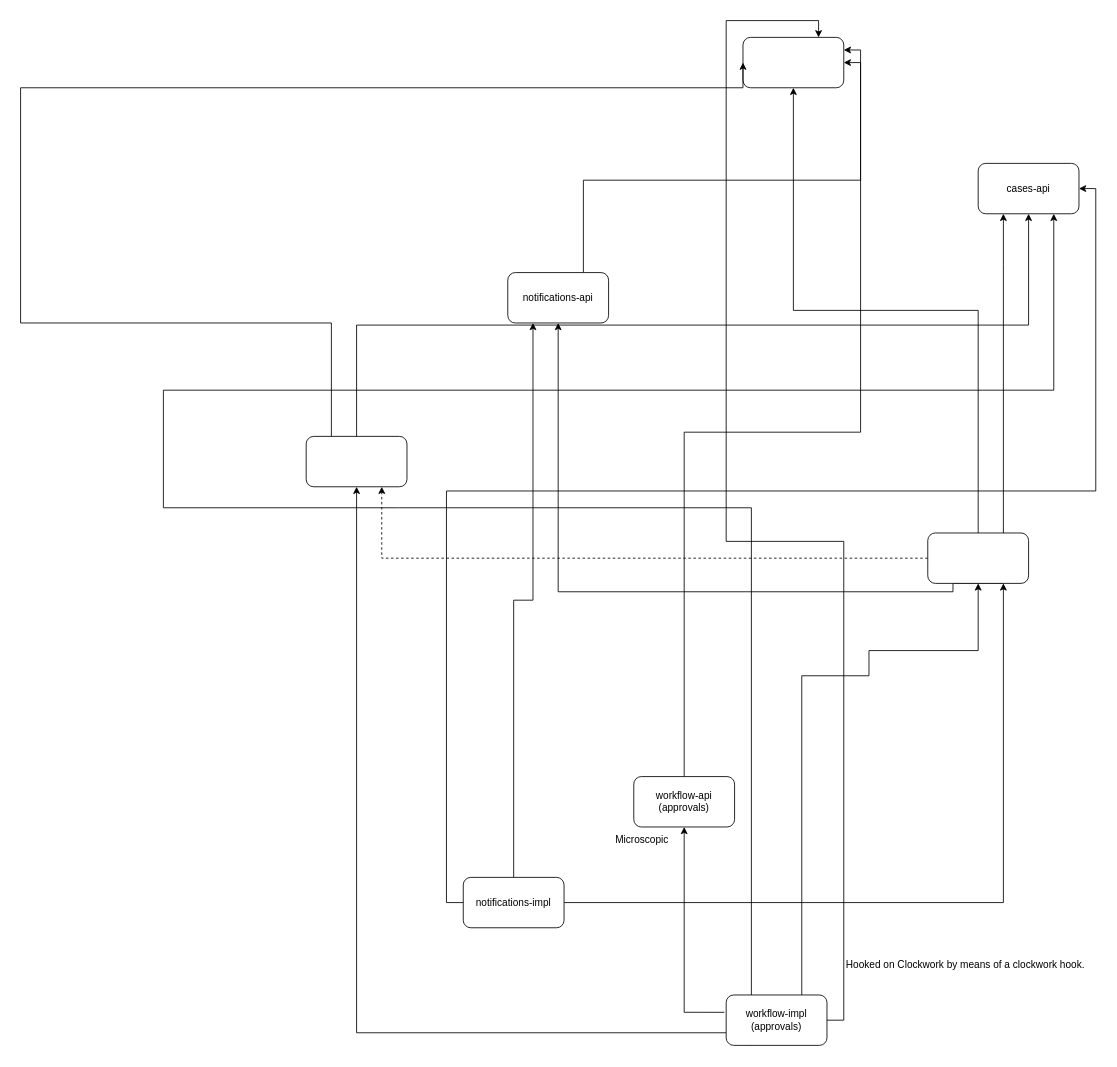
This 1117x1067 diagram has some shape labels left out. The box of each missing label's shape, as (x1, y1, x2, y2) in pixels:
cases-impl: (305, 436, 407, 487)
model-api: (742, 37, 844, 88)
model-impl: (927, 532, 1029, 583)
